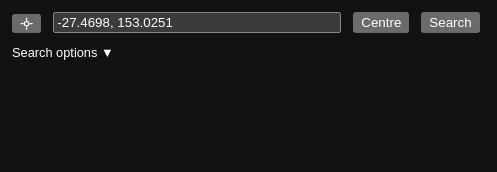
Scenario: SearchForm › loads saved form values from localStorage
The image size is (497, 172).
Click the button "Search options ▼". click: x=63, y=52
box: [12,45,114,60]
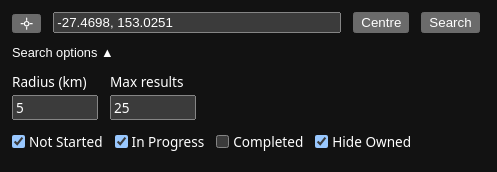
Expected: the field named "Location" holds "-27.4698, 153.0251", [53,12,341,33]
Result: the number field labelled "Radius (km)" holds "5" at [12,95,98,120]
Result: the number field labelled "Max results" holds "25" at [110,95,196,120]
